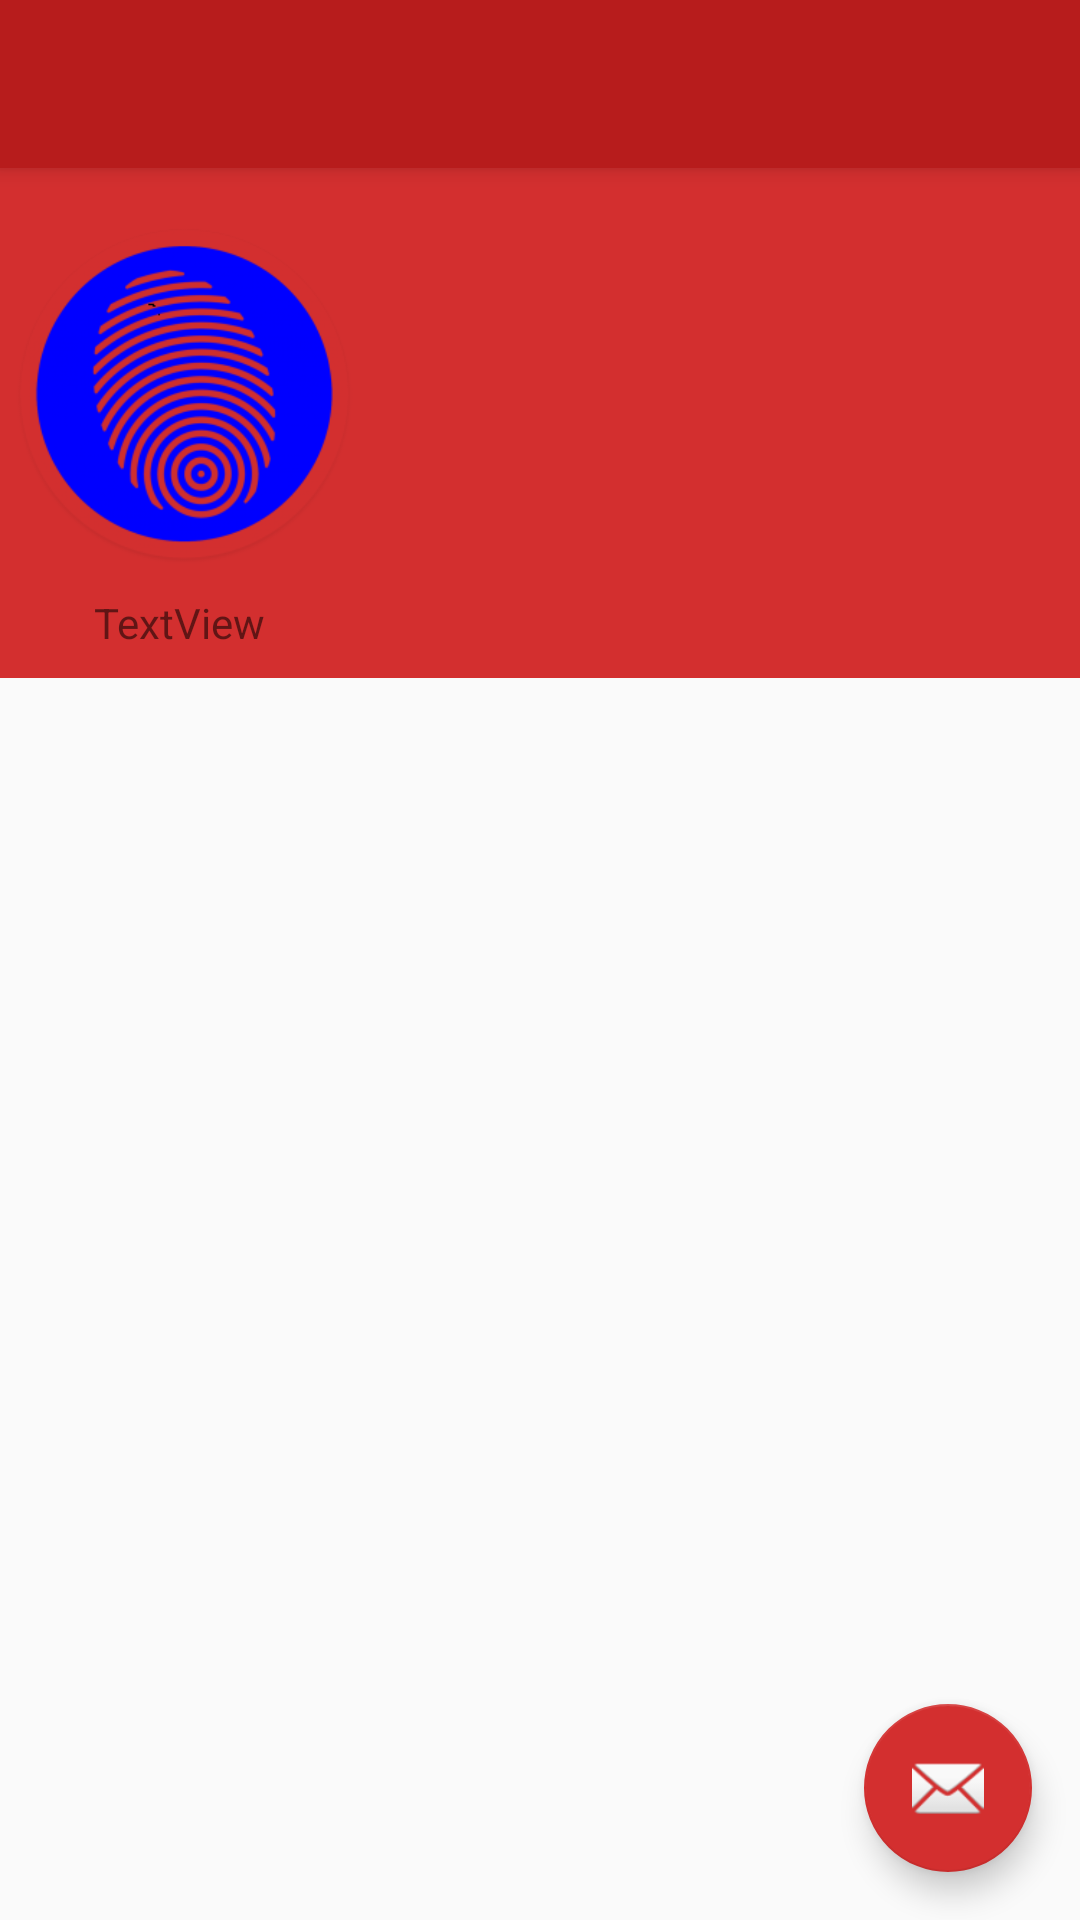

Icons on this 1080px×1920px Android screen, each with its box as (x1, y1, x2, y2):
email: (864, 1704, 1032, 1872)
